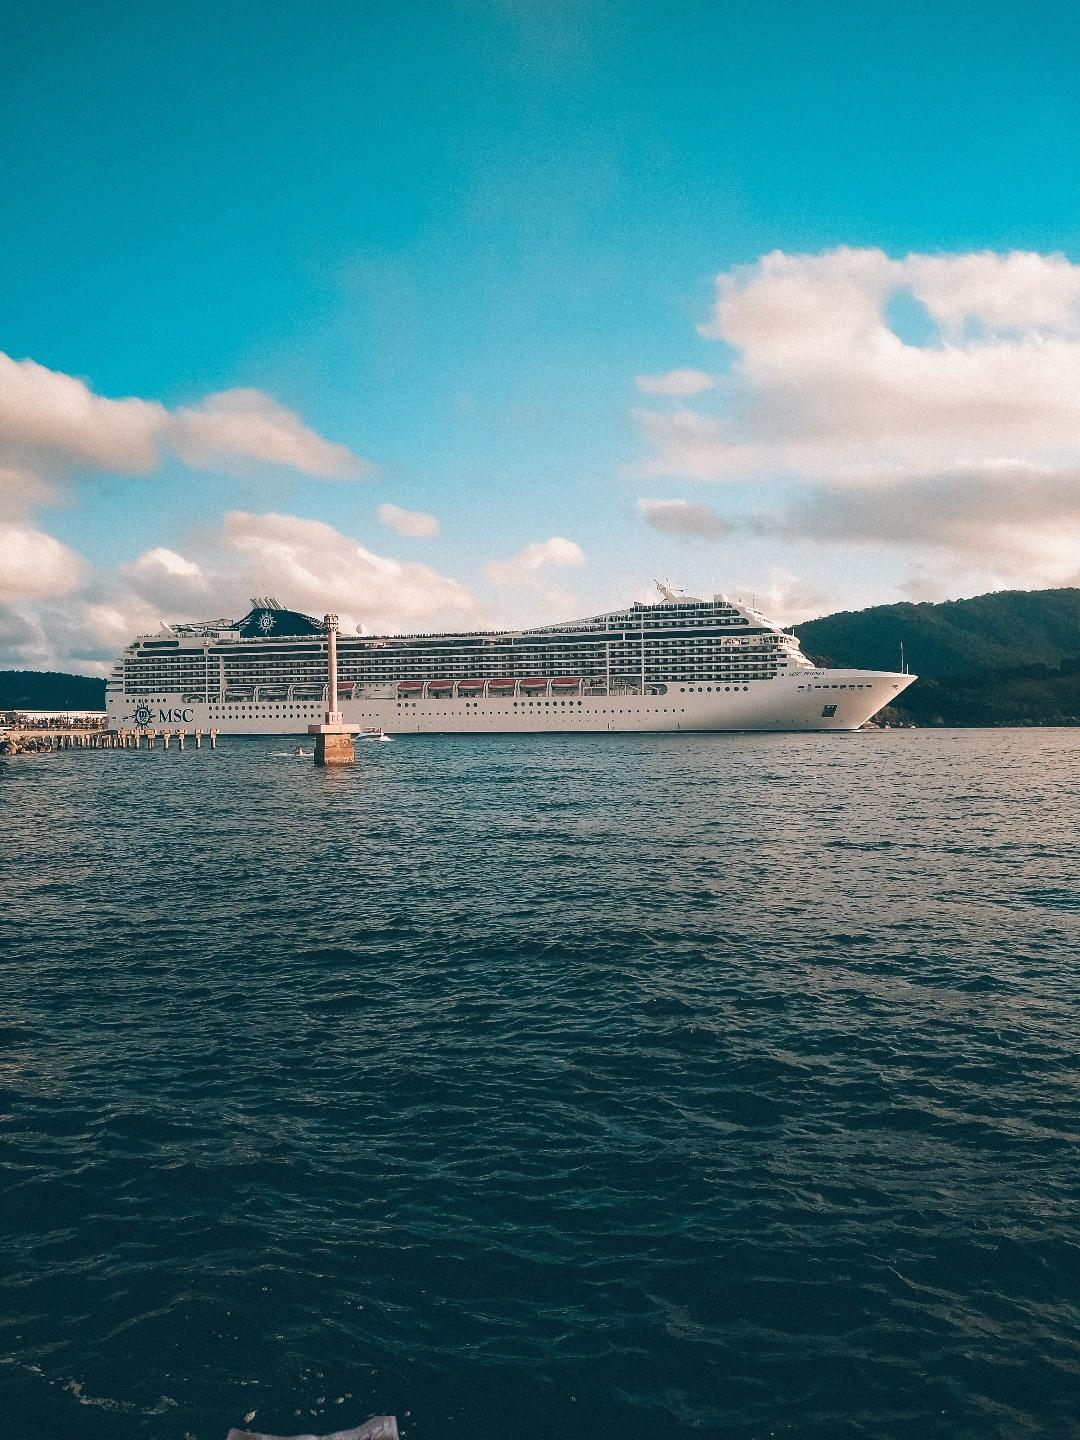clothes: (138, 1416, 458, 1440)
